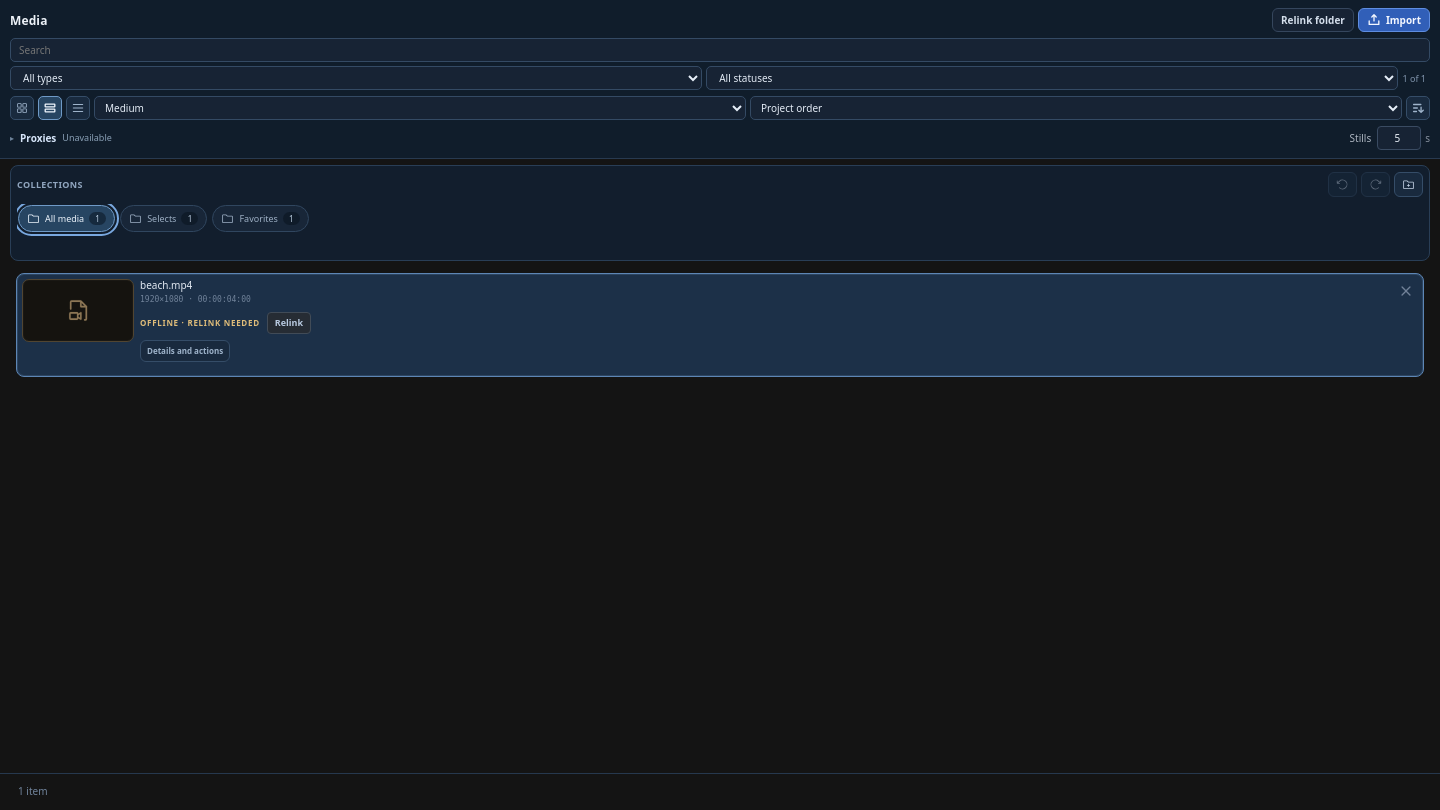
Test: MediaPool presentation › uses collection tabs as a keyboard filter and supports multi-membership offline
The width and height of the screenshot is (1440, 810).
Press ArrowRight in the tab "All media 1", box top-left (18, 205), bottom-right (115, 232)
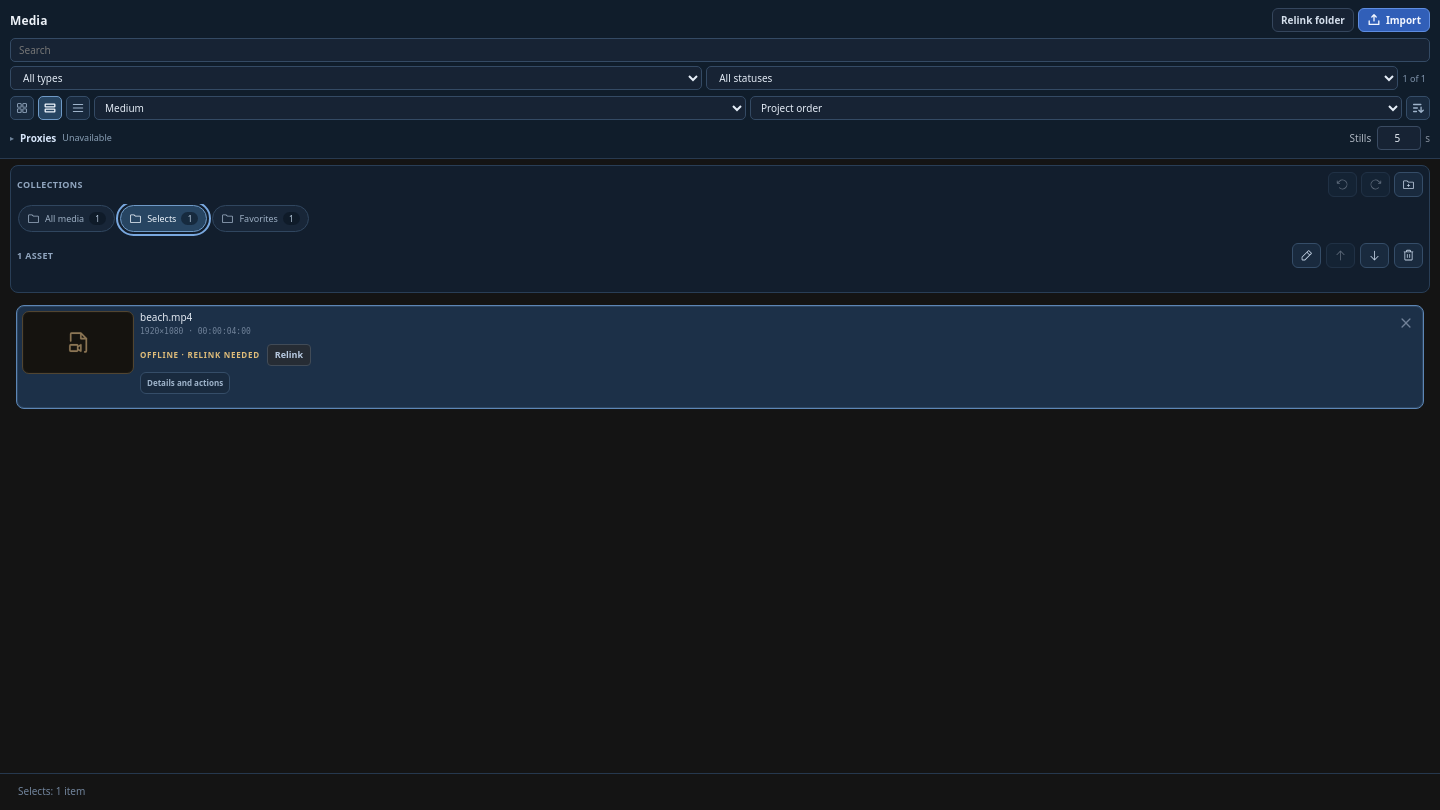
Now the text "Selects: 1 item" is shown, box top-left (0, 773), bottom-right (1439, 809)
Click the button "Details and actions". click: (185, 383)
box: top-left (140, 372), bottom-right (230, 394)
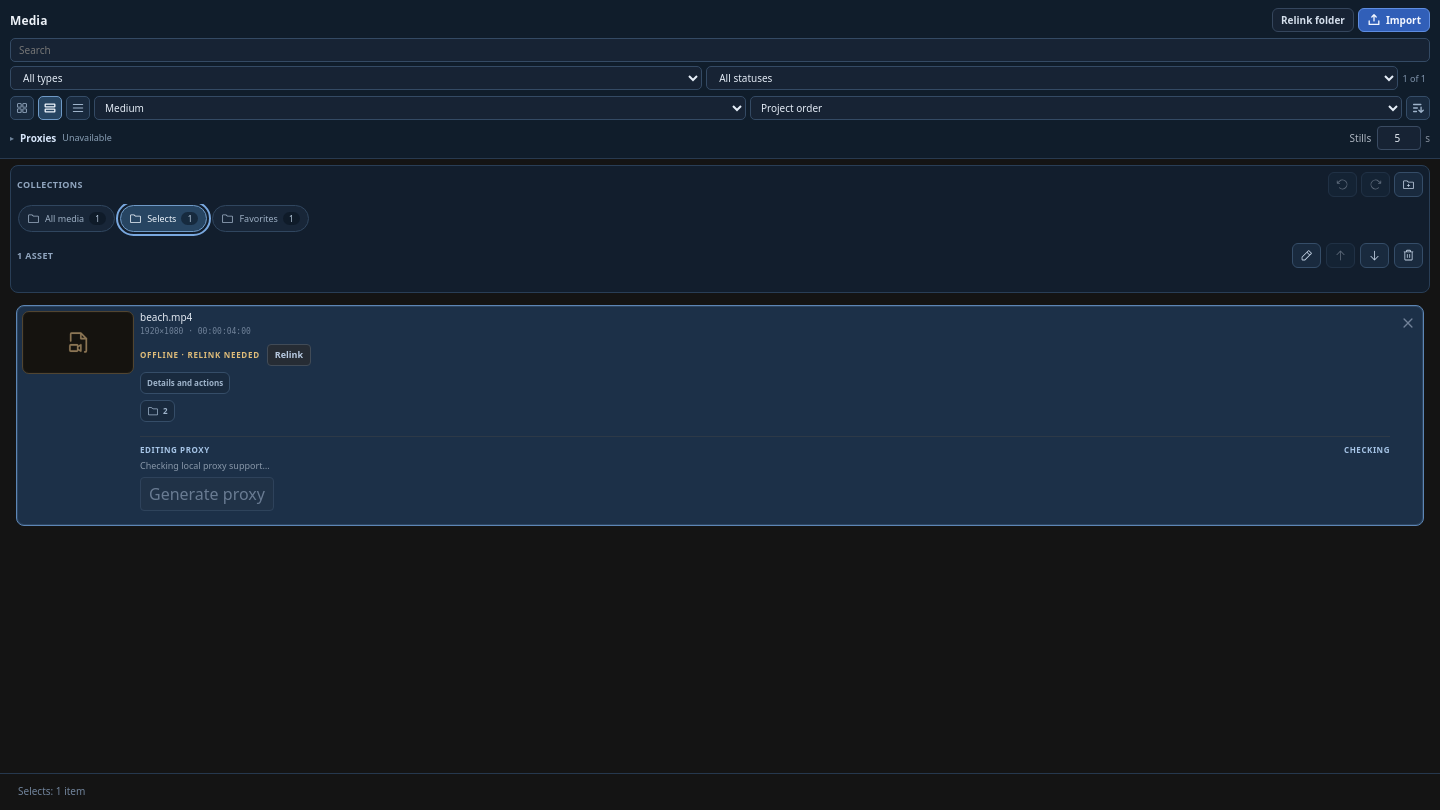
Click the button named "Organize beach.mp4 in collections". click: (157, 411)
box: top-left (140, 400), bottom-right (175, 422)
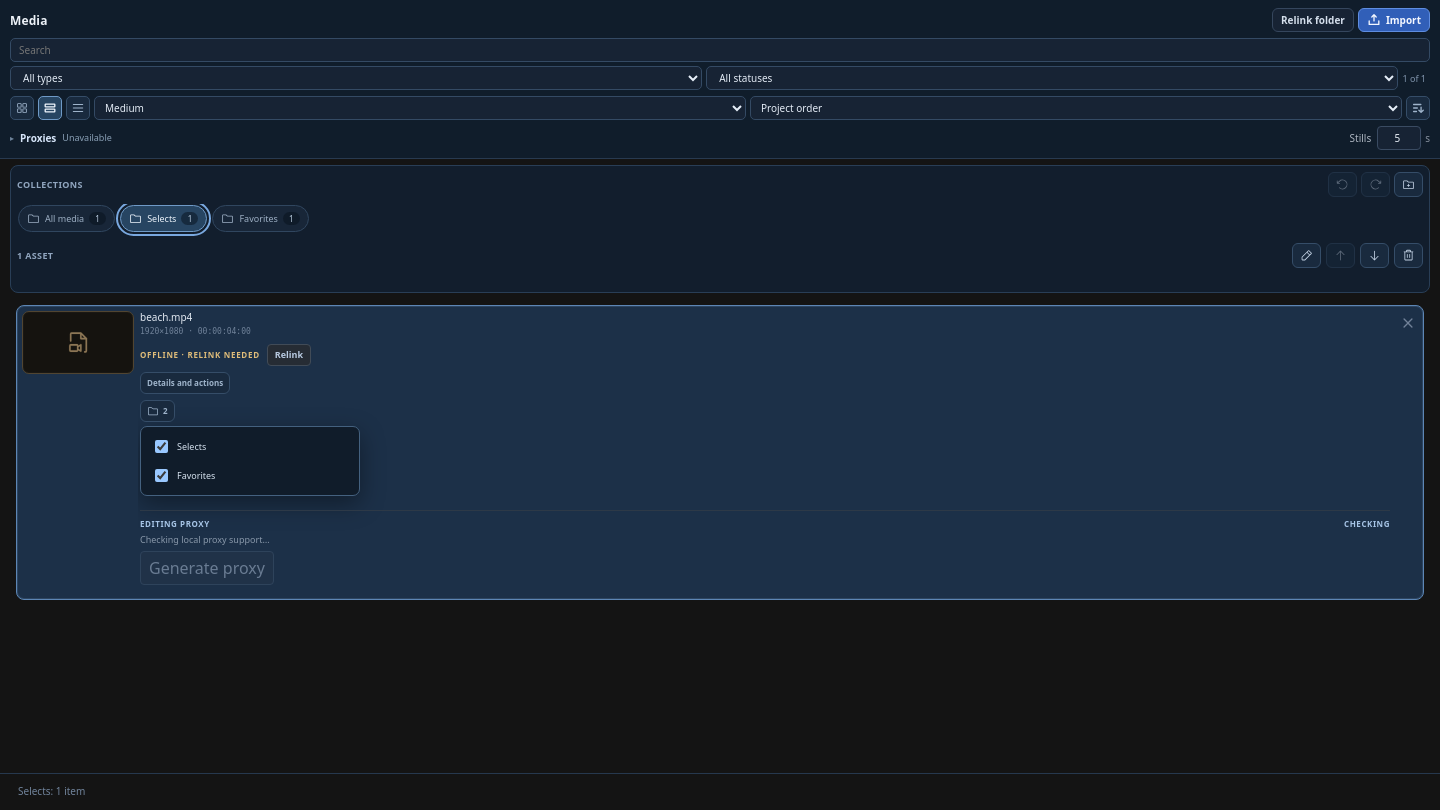
Now the checkbox labelled "Selects" is checked, box top-left (155, 440), bottom-right (168, 453)
Now the checkbox labelled "Favorites" is checked, box top-left (155, 469), bottom-right (168, 482)
